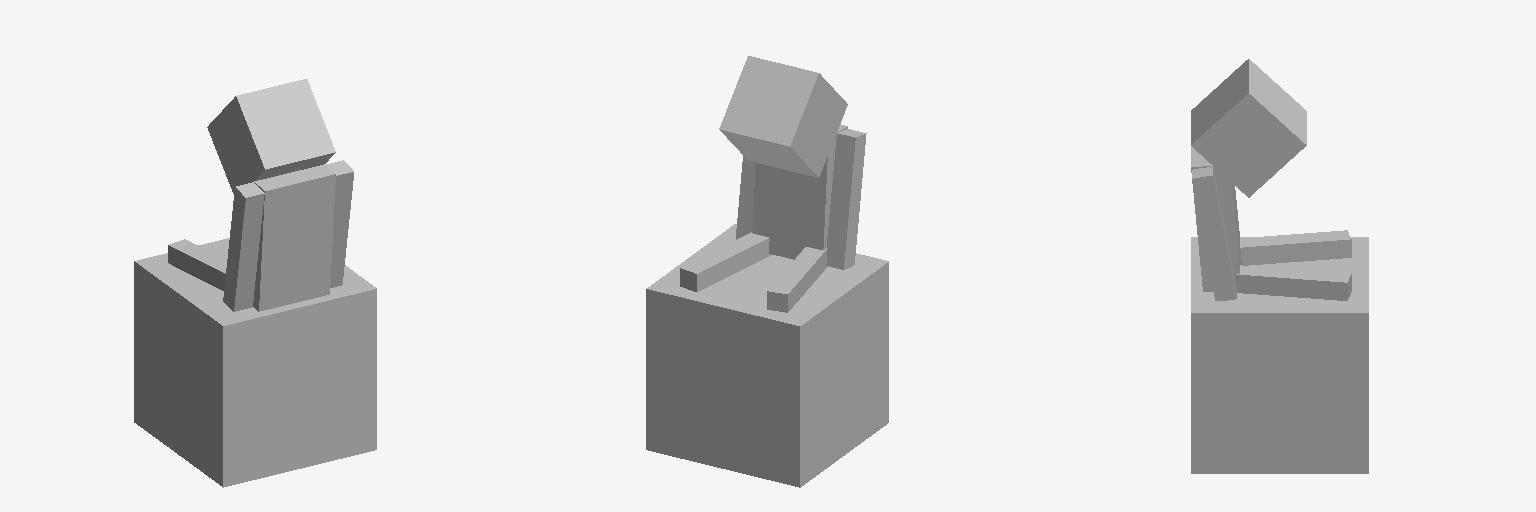
The model's file is old_skeleton.obj.
3 views of the same model, side by side, from view 1: azimuth 30°, elevation 25°; view 2: azimuth 150°, elevation 25°; view 3: azimuth 270°, elevation 25° (orthographic).
Visible parts, largest first — view 1: Cube, Player_Cube; view 2: Cube, Player_Cube; view 3: Cube, Player_Cube.
Boxes of the visible parts, x1,y1,x2,y2 form: Cube: [134, 238, 376, 487]; Player_Cube: [168, 79, 353, 311]; Cube: [646, 224, 888, 487]; Player_Cube: [680, 56, 866, 312]; Cube: [1191, 237, 1368, 473]; Player_Cube: [1191, 59, 1351, 300].
Bounding box in the file's own units: 2 × 4.47 × 2.01.